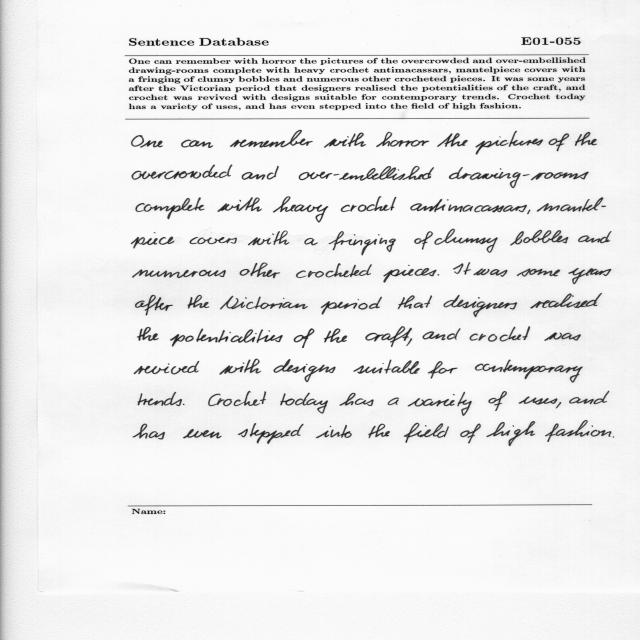word: (449, 167, 589, 188), (475, 360, 583, 383), (170, 329, 283, 347), (299, 166, 434, 181), (476, 131, 543, 155), (329, 231, 396, 255), (444, 295, 517, 317), (434, 229, 498, 253), (408, 392, 472, 416), (410, 199, 527, 212), (132, 165, 232, 180), (136, 198, 204, 220), (230, 130, 313, 148), (273, 197, 328, 223), (274, 359, 336, 382), (545, 421, 612, 442), (238, 423, 304, 444), (220, 296, 308, 310), (487, 421, 536, 446), (296, 263, 372, 278), (321, 297, 382, 315), (530, 294, 602, 309), (537, 197, 606, 212), (280, 393, 328, 414), (365, 326, 412, 347), (383, 265, 437, 283), (470, 326, 530, 342), (353, 360, 420, 374), (404, 423, 449, 443), (341, 196, 397, 212), (510, 230, 569, 245), (208, 391, 266, 406), (132, 269, 226, 278), (134, 361, 199, 374), (376, 132, 429, 147), (135, 295, 173, 315), (131, 232, 174, 249), (569, 268, 612, 284), (217, 197, 262, 212), (220, 359, 262, 375), (240, 263, 280, 279), (324, 133, 366, 148), (138, 392, 182, 406), (248, 231, 289, 246), (428, 361, 458, 379), (569, 391, 609, 404), (242, 166, 279, 180), (133, 424, 165, 440), (398, 295, 432, 309), (316, 425, 352, 438), (423, 329, 461, 341), (340, 393, 374, 406), (437, 133, 468, 147), (294, 328, 315, 348), (460, 424, 481, 444), (131, 135, 163, 148), (578, 231, 612, 243), (183, 429, 222, 439), (517, 268, 560, 277), (488, 391, 507, 411), (414, 231, 433, 250), (549, 134, 569, 152), (324, 328, 347, 343), (519, 396, 557, 405), (189, 237, 237, 244), (544, 332, 581, 341), (575, 132, 597, 146), (137, 327, 159, 341), (368, 424, 390, 438), (474, 268, 508, 277), (188, 295, 210, 308), (181, 140, 213, 148), (453, 263, 471, 275), (304, 238, 318, 245), (388, 398, 399, 406), (406, 338, 412, 346), (556, 402, 561, 408), (527, 210, 531, 214), (438, 274, 440, 276), (183, 404, 185, 405), (613, 436, 614, 438)
